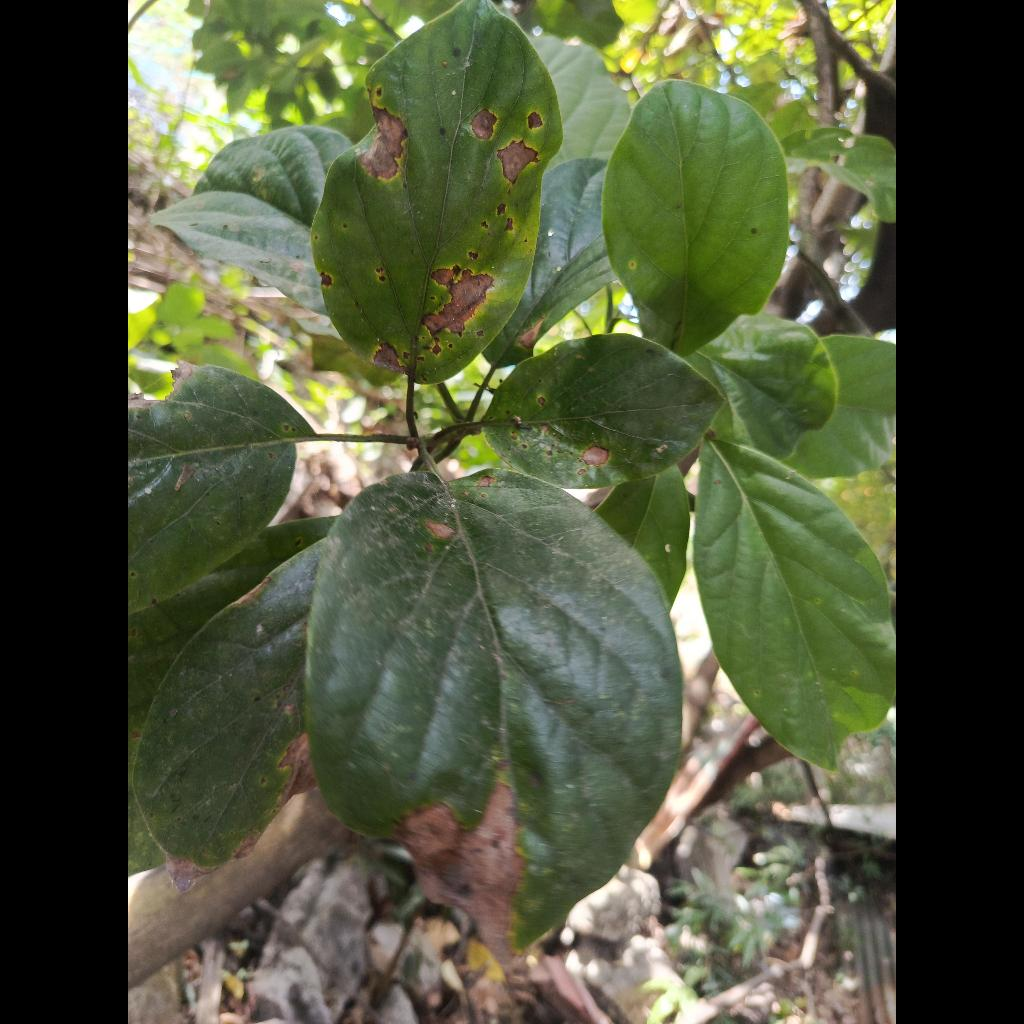antracnosis_hoja: (306, 470, 683, 958)
